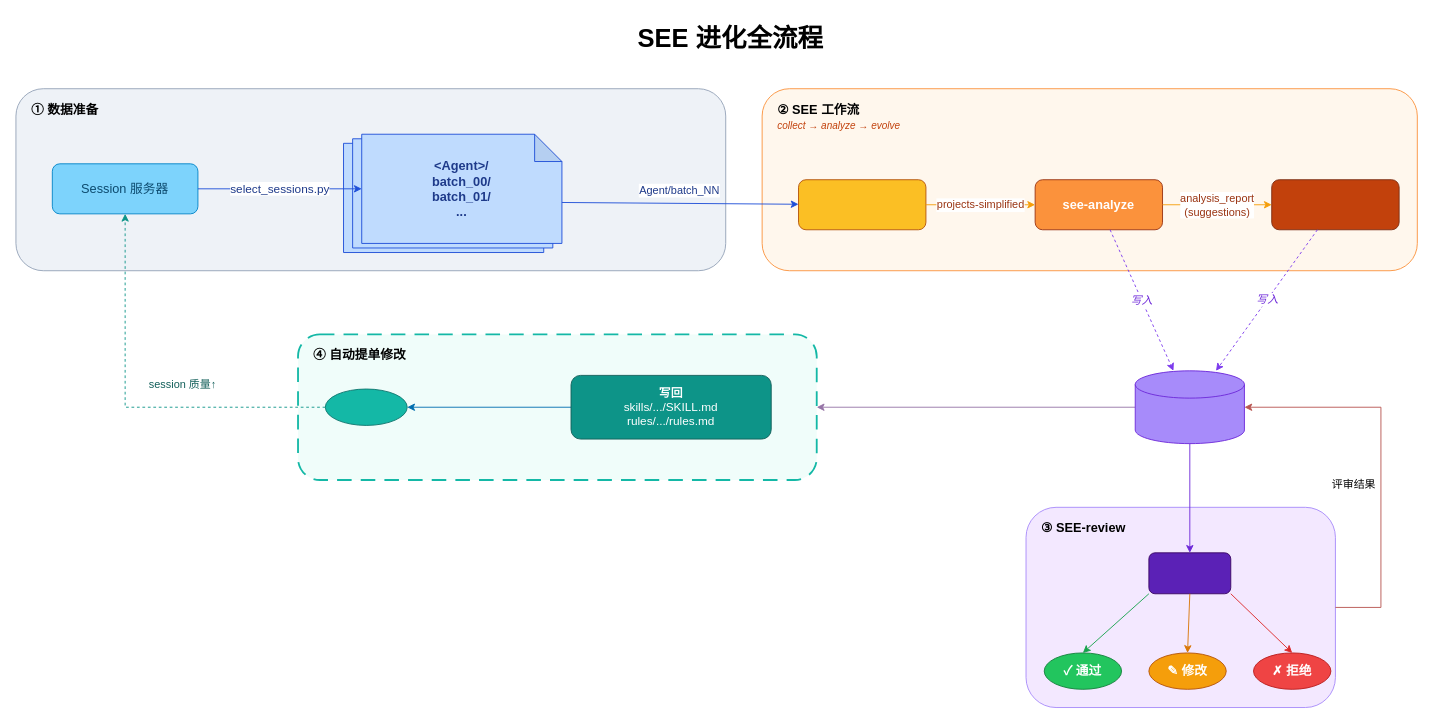
Image size: 1433x723. Some labels were removed from this diagram. The centre of each missing label's shape, as x and y in pixels:
".change" goes at point (1189, 573).
"review_db" goes at point (1189, 407).
"see-collect" goes at point (862, 204).
"see-evolve" goes at point (1335, 204).
"闭环验证" goes at point (365, 406).
